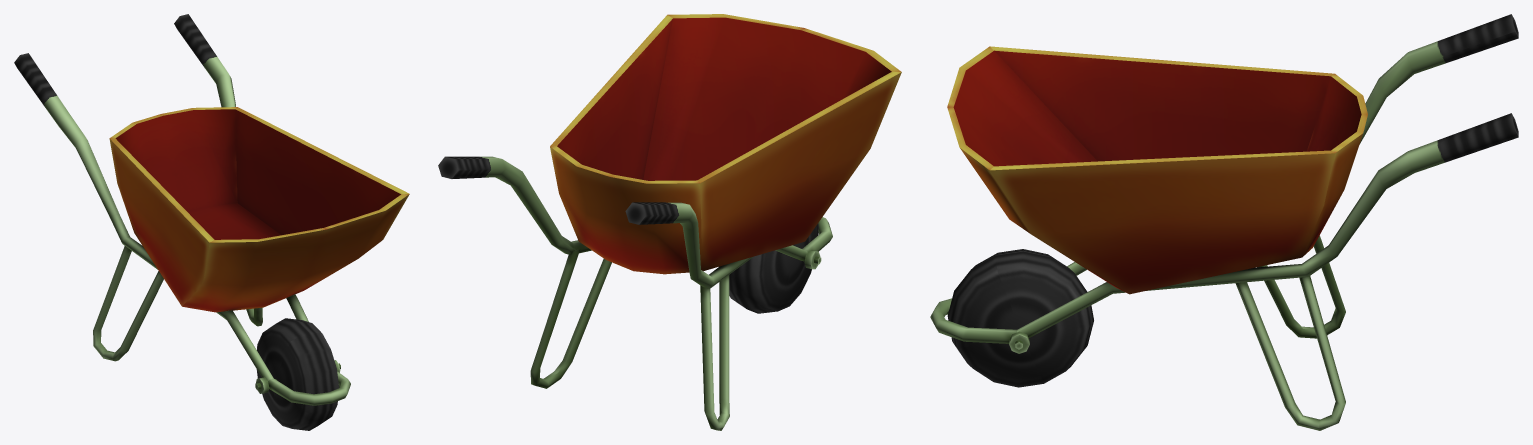
Rendered from assets_wheelbarrow.fbx.
3 renders of one model, left to right at view 1: azimuth 30°, elevation 25°; view 2: azimuth 150°, elevation 25°; view 3: azimuth 270°, elevation 25°, orthographic. The views are drawn at different scales.
Visible parts, largest first — view 1: assets_wheelbarrow; view 2: assets_wheelbarrow; view 3: assets_wheelbarrow.
Part boxes in pixels (bbox=[...]): assets_wheelbarrow: bbox=[14, 14, 409, 430]; assets_wheelbarrow: bbox=[438, 14, 901, 430]; assets_wheelbarrow: bbox=[930, 14, 1518, 430].
Bounding box in the file's own units: 8.78 × 10.51 × 17.61.
